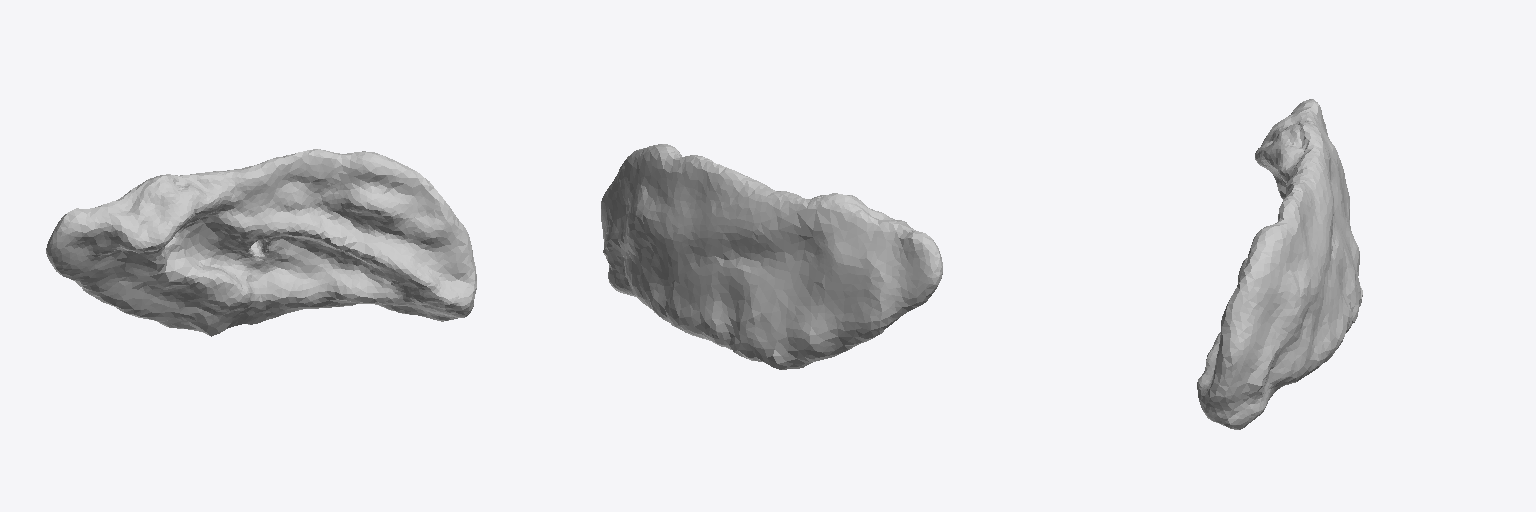
Rendered from Wall 1.obj.
The picture shows the model from 3 angles: view 1: azimuth 30°, elevation 25°; view 2: azimuth 150°, elevation 25°; view 3: azimuth 270°, elevation 25°; orthographic projection.
Parts seen in each view (by area): view 1: Wall_1_Icosphere.001; view 2: Wall_1_Icosphere.001; view 3: Wall_1_Icosphere.001.
Boxes of the visible parts, x1=… form: Wall_1_Icosphere.001: x1=46, y1=149, x2=476, y2=336; Wall_1_Icosphere.001: x1=601, y1=144, x2=942, y2=369; Wall_1_Icosphere.001: x1=1197, y1=99, x2=1362, y2=429.
Bounding box in the file's own units: 84.76 × 38.73 × 32.08.